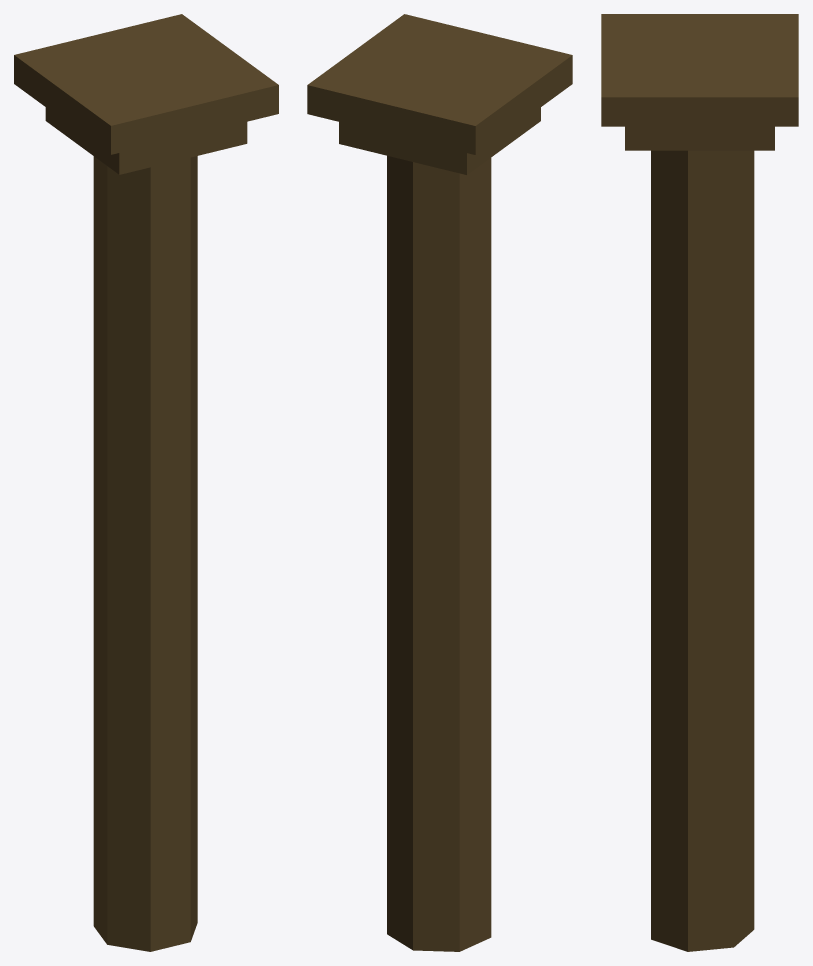
File: DarkWoodMechMediumSpinnerRestPlinth1.fbx
3 views of the same model, side by side, from view 1: azimuth 30°, elevation 25°; view 2: azimuth 150°, elevation 25°; view 3: azimuth 270°, elevation 25° (orthographic).
Parts seen in each view (by area): view 1: DarkWoodMechMediumSpinnerRestPlinth1; view 2: DarkWoodMechMediumSpinnerRestPlinth1; view 3: DarkWoodMechMediumSpinnerRestPlinth1.
Part boxes in pixels (<box>): DarkWoodMechMediumSpinnerRestPlinth1: <box>14,14,278,951</box>; DarkWoodMechMediumSpinnerRestPlinth1: <box>307,14,572,951</box>; DarkWoodMechMediumSpinnerRestPlinth1: <box>601,14,798,951</box>.
Size of the model in its own units: 2.5 by 12.23 by 2.5.
Materials: 1 (1 with a texture image).
